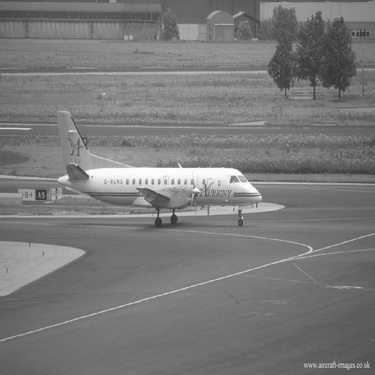airplane: (25, 96, 267, 236)
